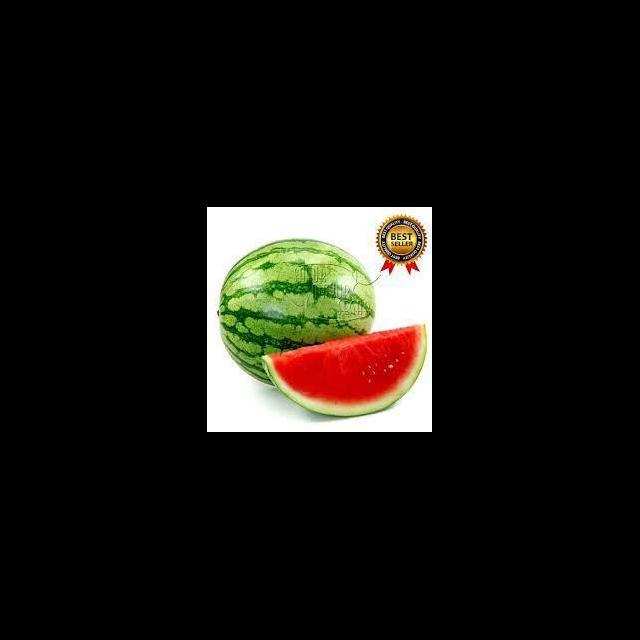watermelon: (218, 239, 378, 388), (260, 324, 428, 418)
